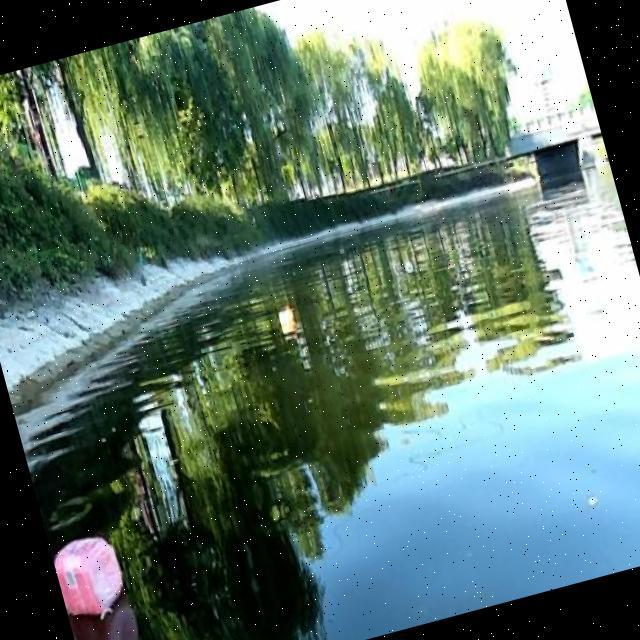Waste: (46, 526, 130, 618), (274, 304, 302, 346)
